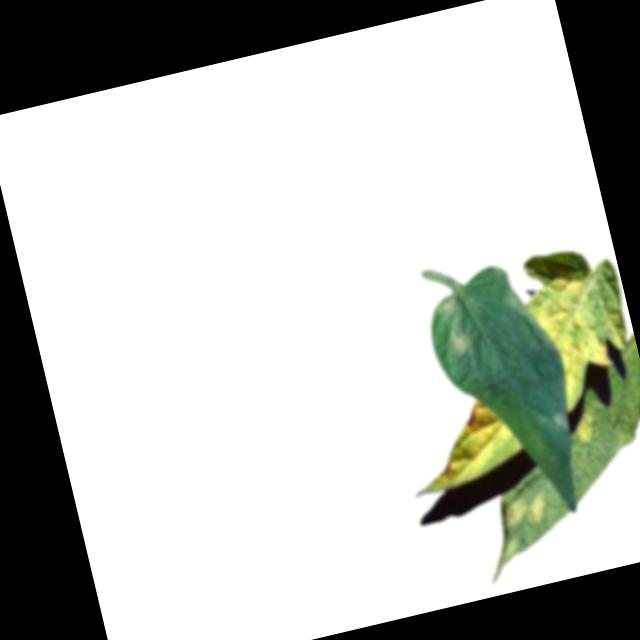Leaf_Mold: (519, 266, 640, 410), (395, 396, 523, 499), (500, 491, 551, 531), (576, 415, 602, 446), (451, 331, 476, 362)
